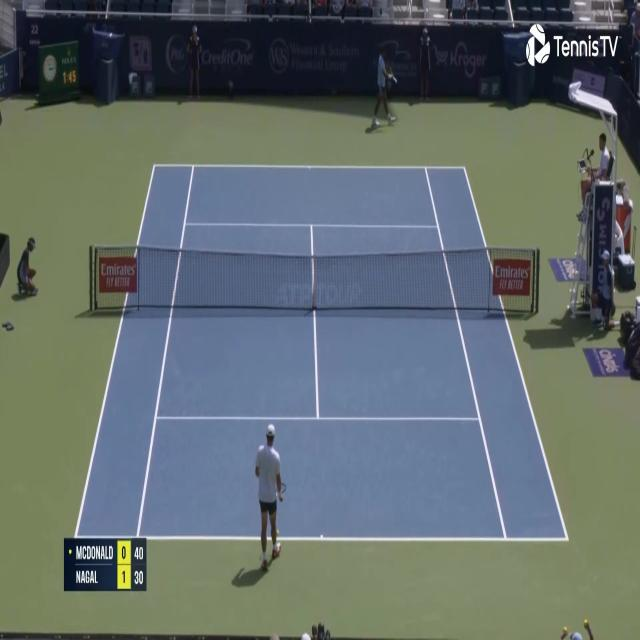tennis-player: (251, 420, 288, 576), (369, 38, 400, 132)
